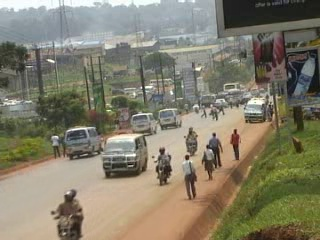Car: (212, 96, 229, 109)
Motorcycle: (46, 184, 88, 239), (150, 142, 175, 185), (181, 124, 201, 157), (190, 101, 200, 114)
